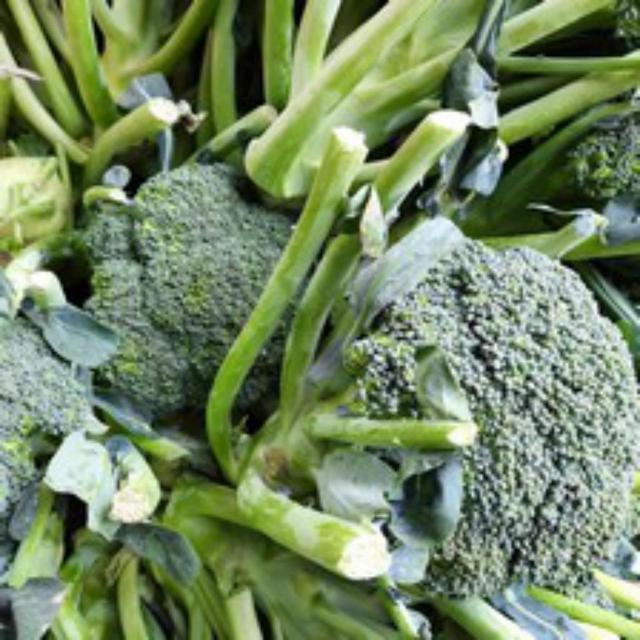broccoli: (298, 195, 640, 613)
